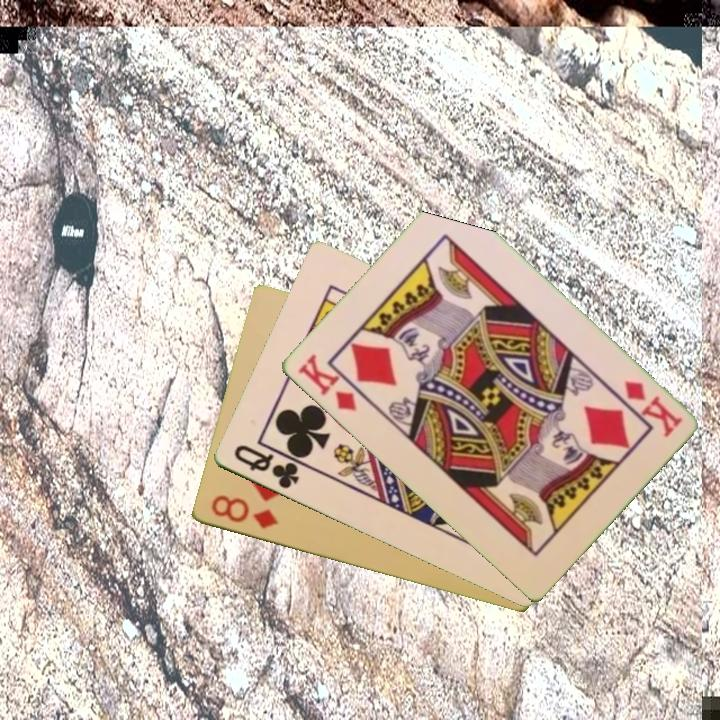8d: (207, 491, 281, 532)
Kd: (294, 350, 370, 415), (620, 376, 685, 440)
Qc: (229, 441, 302, 493)
